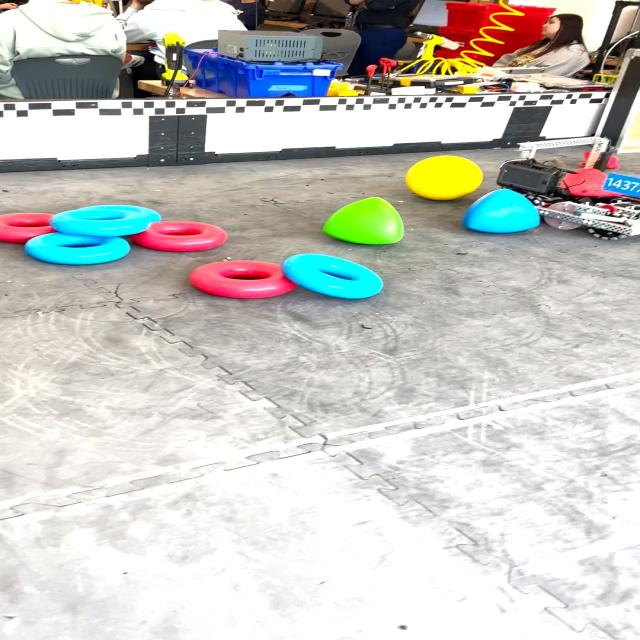Blue-Ring: (282, 254, 382, 299), (24, 232, 129, 265), (51, 205, 162, 236)
Red-Ring: (189, 260, 296, 299), (131, 221, 227, 251), (0, 212, 56, 244)
